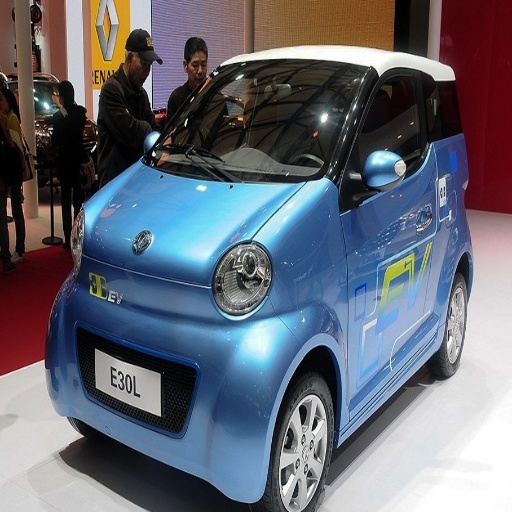front_bumper: (76, 312, 289, 495)
front_glass: (147, 62, 373, 182)
front_left_door: (339, 68, 430, 406)
trunk: (87, 222, 200, 317), (124, 331, 190, 353)
